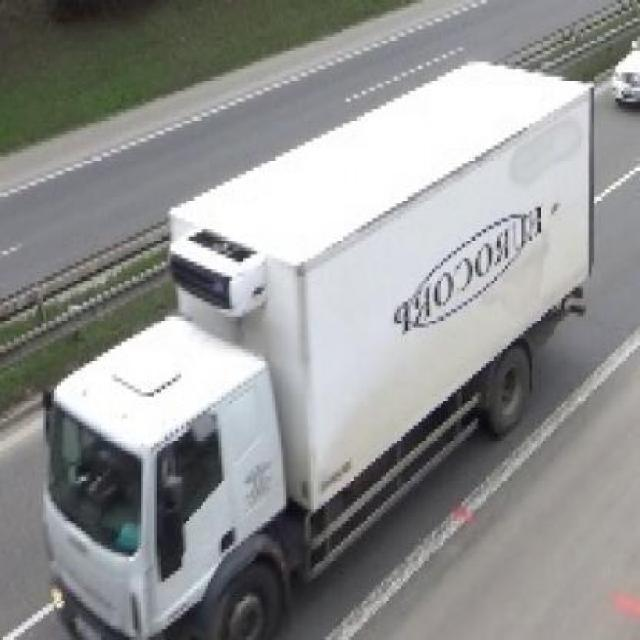truck: (39, 56, 596, 637)
